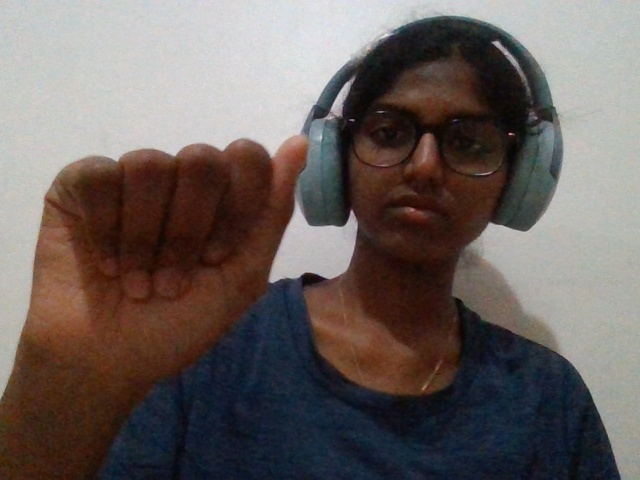A: (1, 125, 321, 475)
